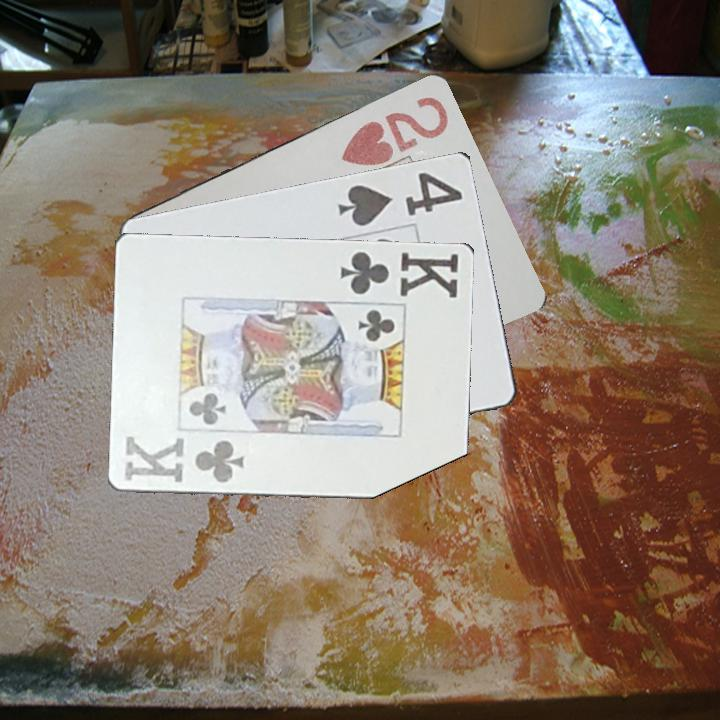2h: (337, 92, 452, 169)
4s: (332, 168, 466, 229)
Kc: (121, 432, 248, 485), (337, 247, 462, 300)
